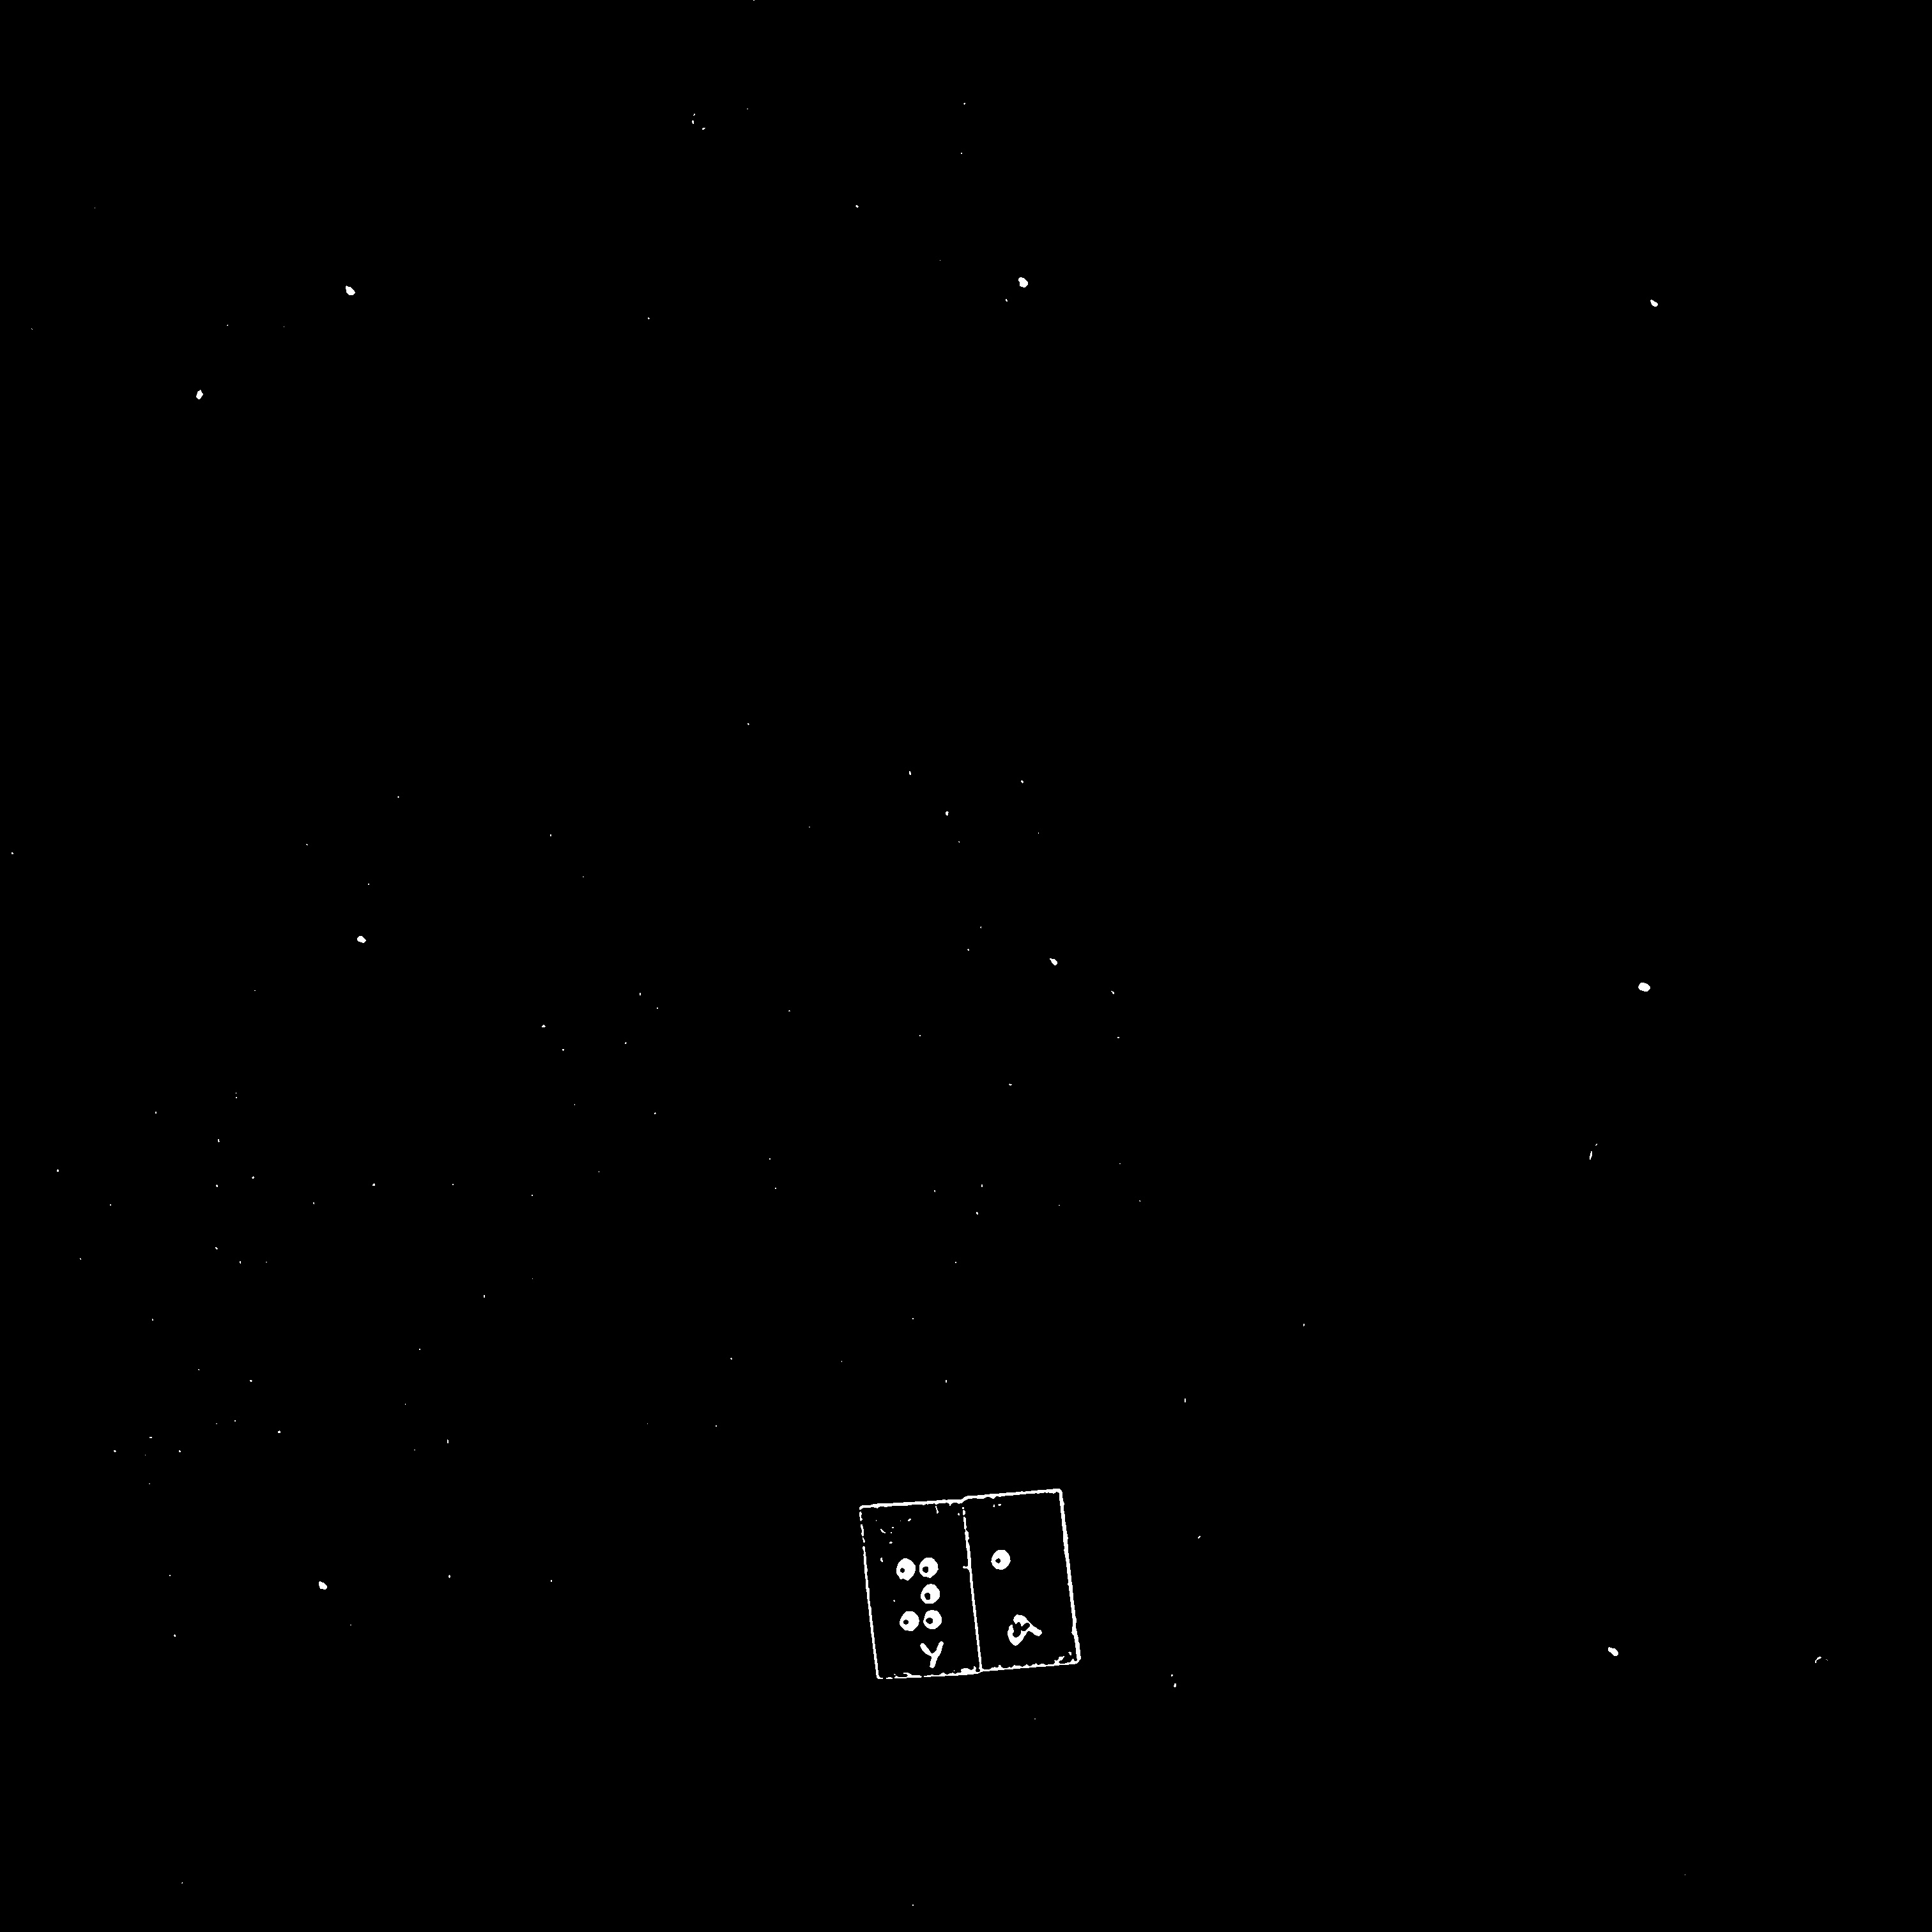a: (981, 1538, 1040, 1626)
y: (891, 1544, 950, 1634)
